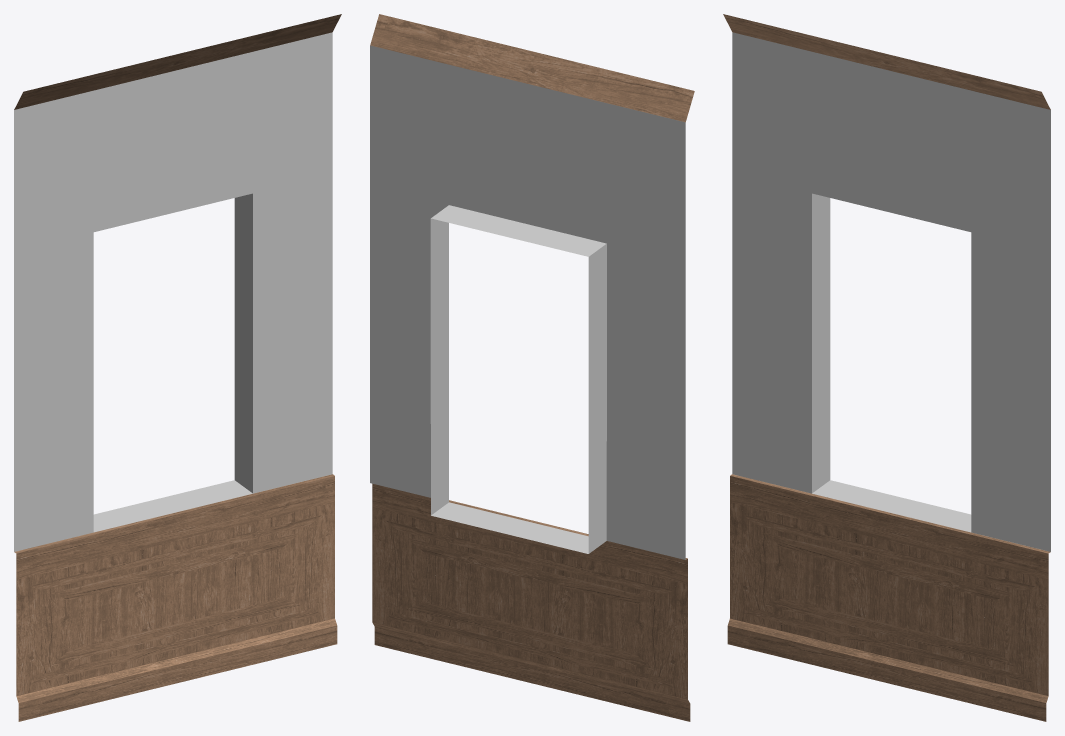
File: WallInt1Window1A.fbx
3 renders of one model, left to right at view 1: azimuth 30°, elevation 25°; view 2: azimuth 150°, elevation 25°; view 3: azimuth 330°, elevation 25°, orthographic.
Parts seen in each view (by area): view 1: WallInt1Window1A; view 2: WallInt1Window1A; view 3: WallInt1Window1A.
Part boxes in pixels (box(x1,y1,x2,y2)): WallInt1Window1A: box(14, 14, 341, 721); WallInt1Window1A: box(370, 14, 694, 721); WallInt1Window1A: box(723, 14, 1050, 721).
Size of the model in its own units: 200 by 380 by 30.
